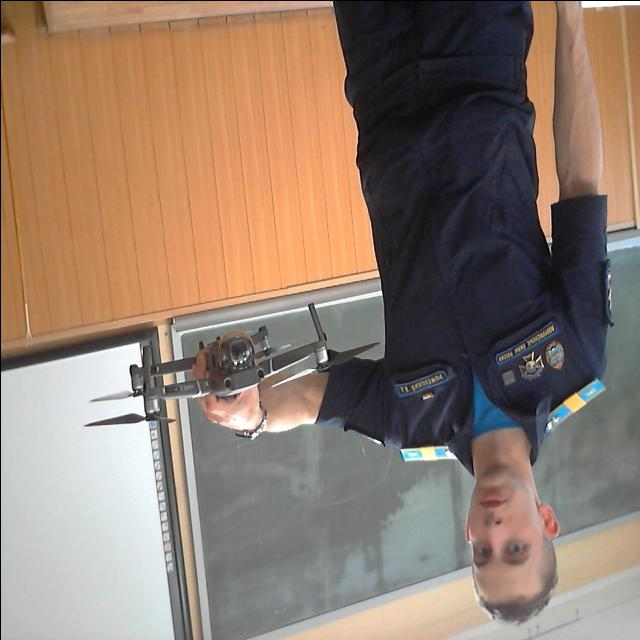drone: (79, 306, 397, 439)
